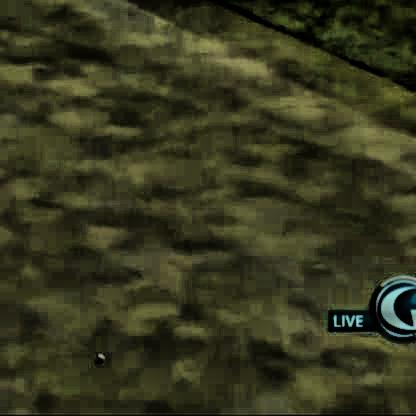golfball: (94, 350, 104, 360)
